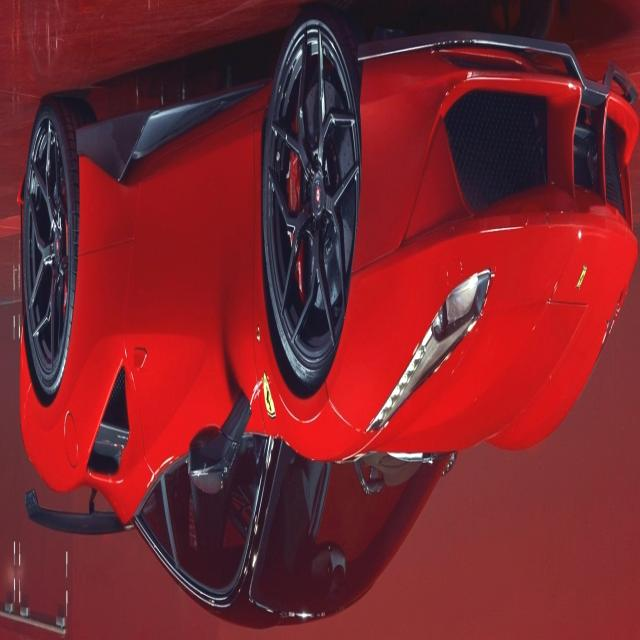red: (24, 80, 640, 610)
